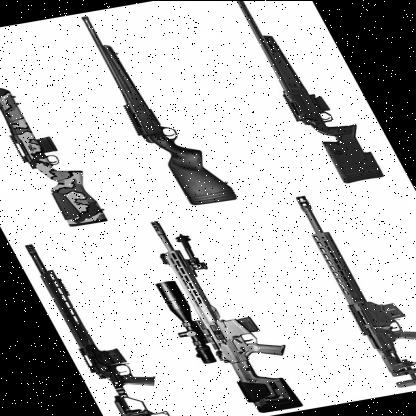rifle: (65, 2, 243, 209), (134, 214, 312, 416), (214, 0, 392, 187), (13, 234, 191, 416), (278, 182, 416, 390), (0, 26, 128, 233)
